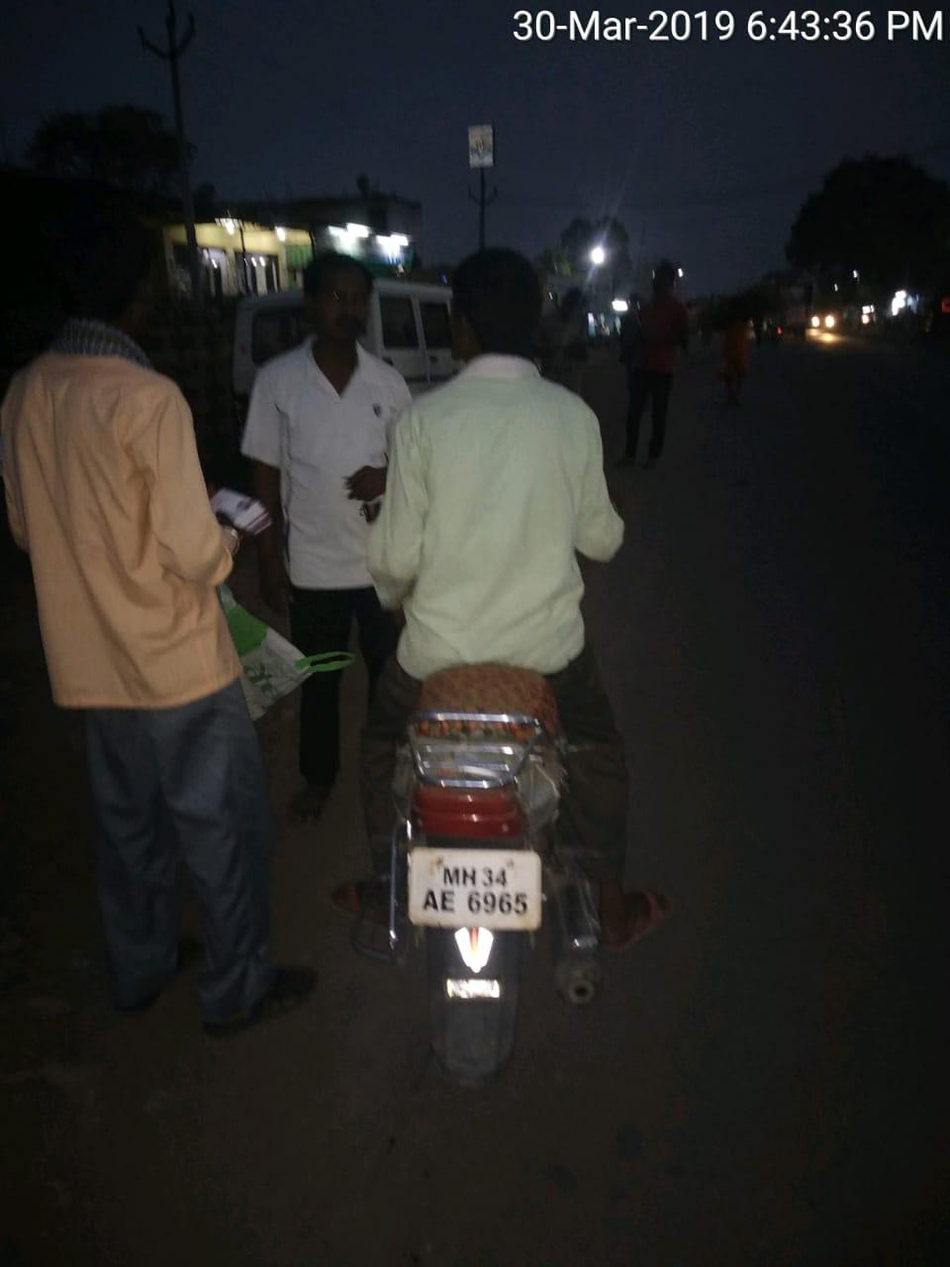plate: (399, 832, 545, 948)
